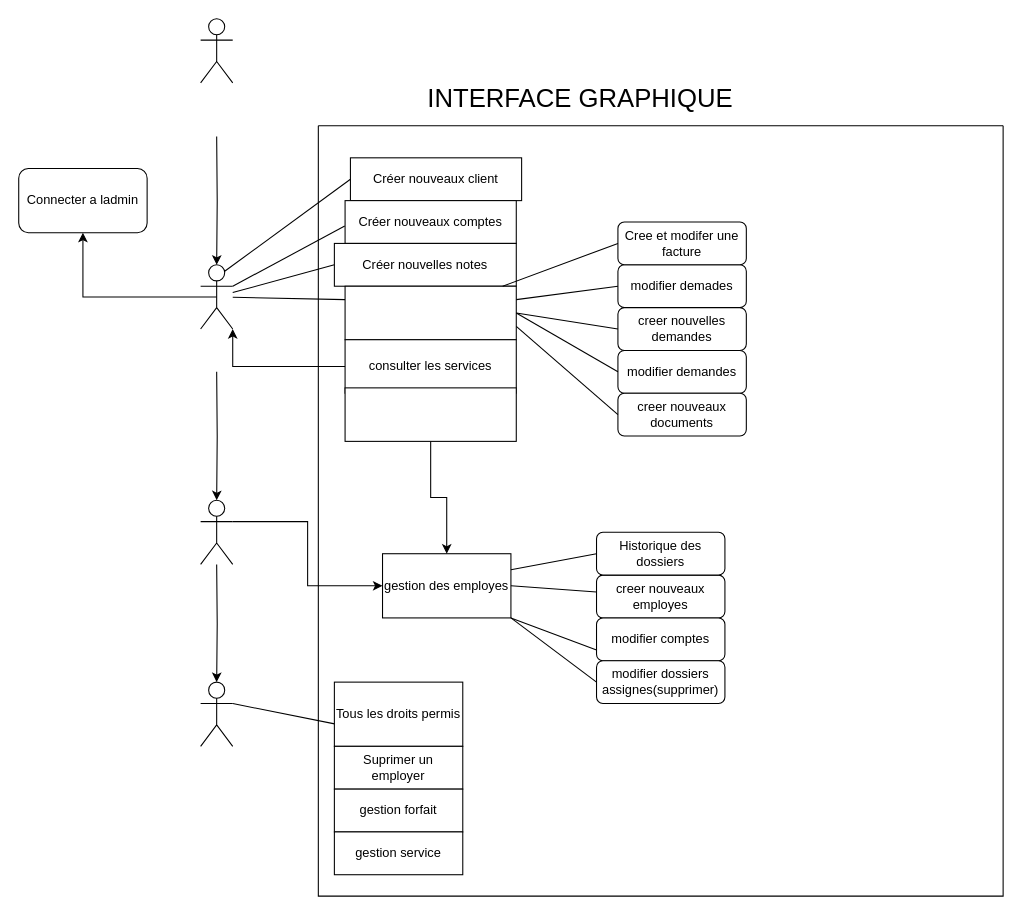
Some shapes in this 1022 by 915 pixel diagram are drawn without their labels. Here are the shapes that lost their labels. From the top down, the centre of each, then its label:
point (216, 50): Clients
point (216, 296): Employé
point (430, 312): Gestion du comptes
point (430, 414): Creer une demandes
point (216, 531): Superviseur
point (216, 713): Admin
